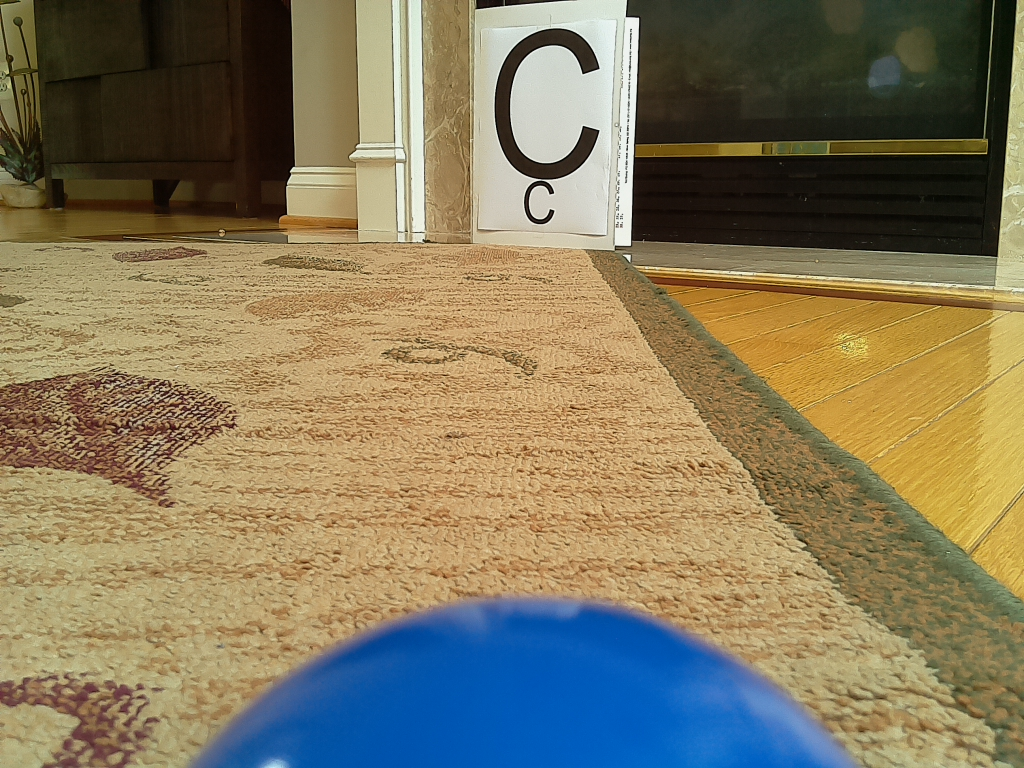letter: (495, 29, 600, 180)
